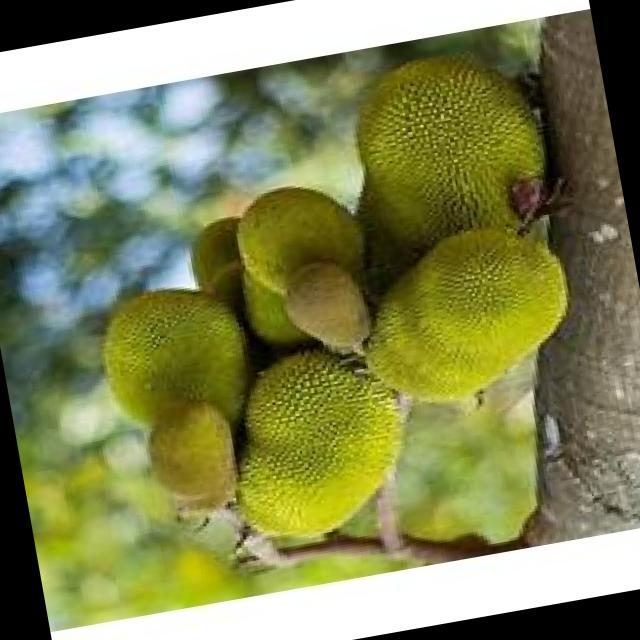Fruit: (67, 253, 299, 552), (314, 30, 572, 286), (201, 319, 438, 563), (334, 204, 594, 426)
